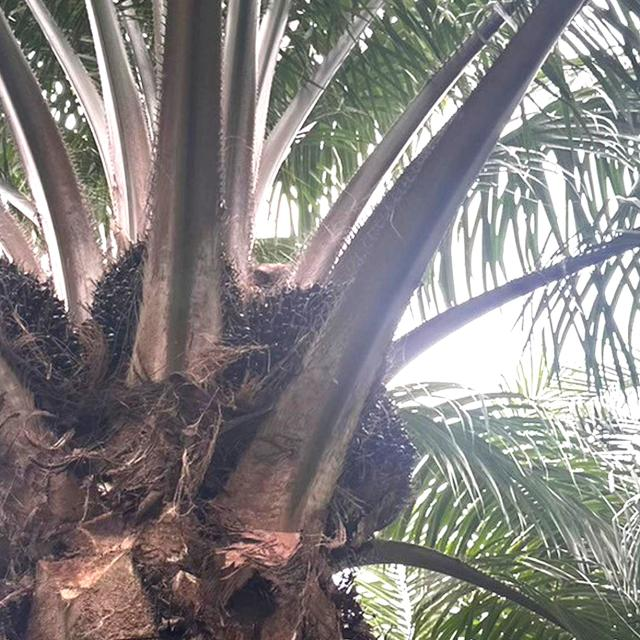almost: (88, 239, 248, 370), (309, 367, 425, 532), (244, 274, 367, 395), (0, 251, 84, 382)
